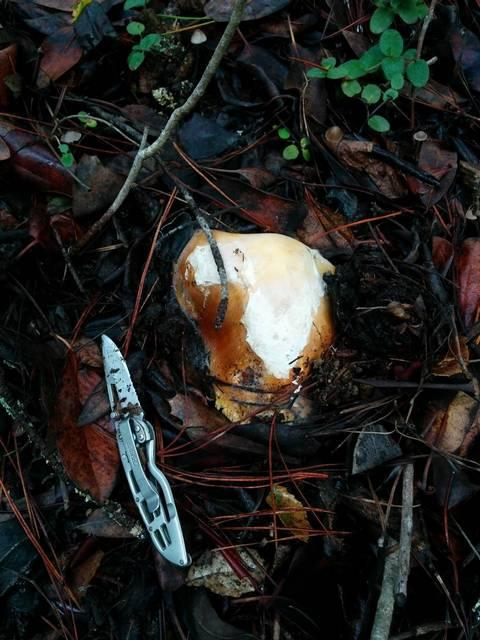Edible Mushroom: (170, 227, 339, 424)
